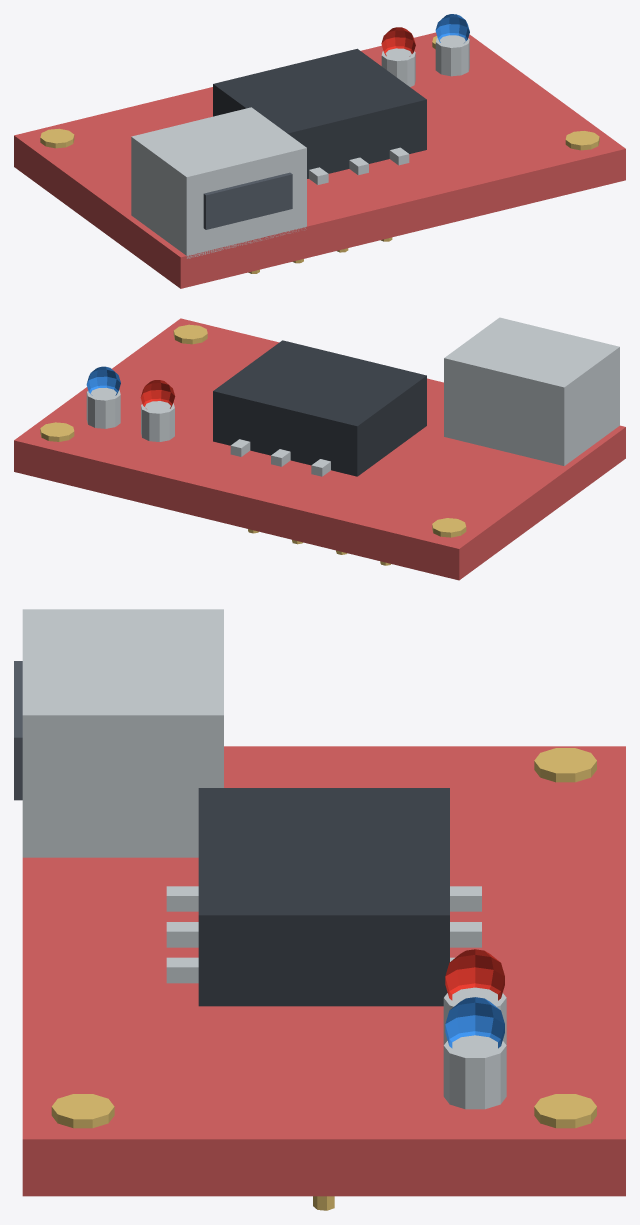
File: product-19.glb
The picture shows the model from 3 angles, top to bottom: view 1: azimuth 30°, elevation 25°; view 2: azimuth 150°, elevation 25°; view 3: azimuth 270°, elevation 25°; orthographic projection. The views are drawn at different scales.
Visible parts, largest first — view 1: product-19; view 2: product-19; view 3: product-19.
Part boxes in pixels (bbox=[...]): product-19: bbox=[14, 14, 625, 288]; product-19: bbox=[14, 317, 625, 580]; product-19: bbox=[14, 609, 625, 1210].
Size of the model in its own units: 0.74 by 0.305 by 0.487.
